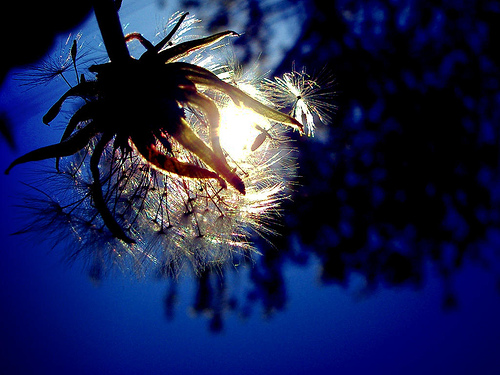dandelion: (26, 14, 342, 296)
